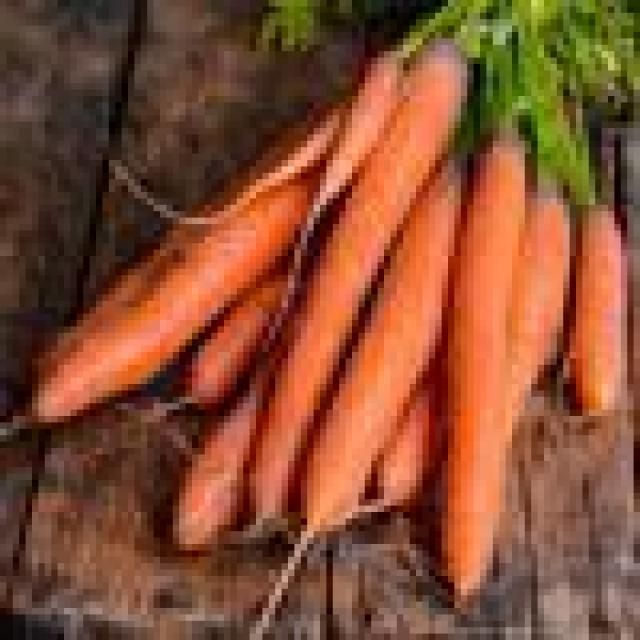Fresh_Carrot: (247, 0, 513, 527), (442, 0, 581, 606)
